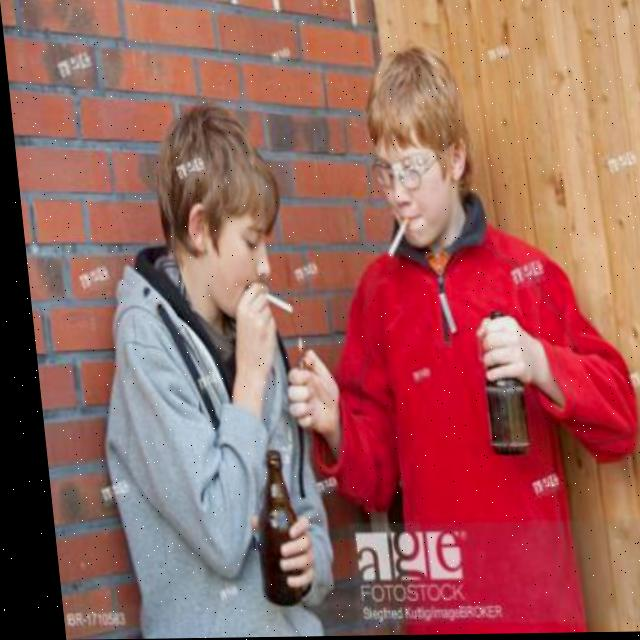cigarette: (380, 218, 410, 261), (256, 290, 290, 318)
